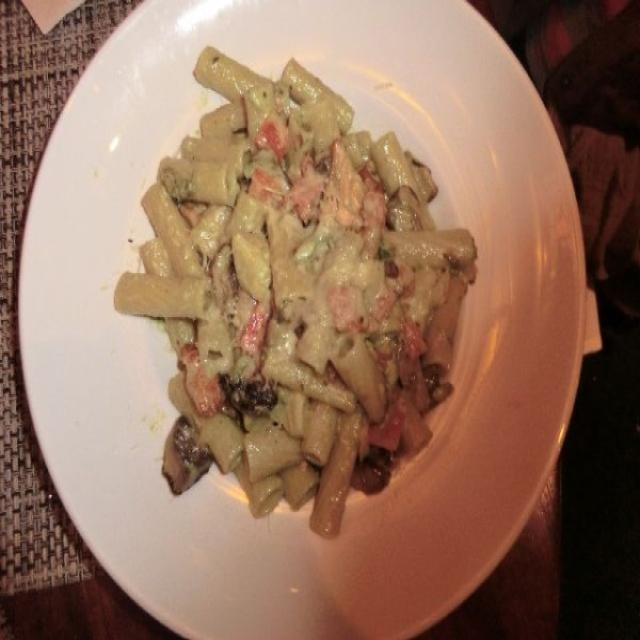蔬菜料理: (14, 3, 488, 640)
